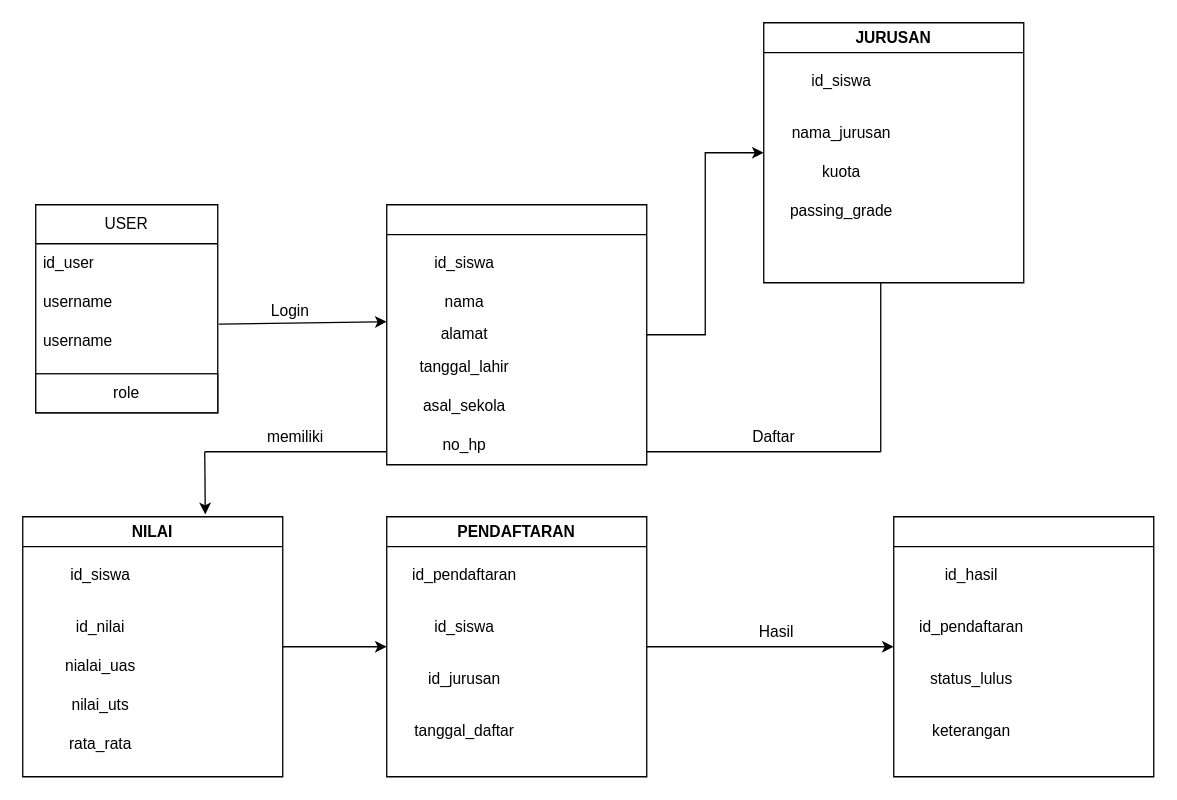
This 1177x800 diagram has some shape labels left out. The shapes that lost their labels are listed below. From the top down, each one's box as (x1, y1, x2, y2) in pixels, then its label:
(385, 203, 647, 465): CALON_SISWA
(892, 515, 1154, 777): HASIL_SELEKSI
